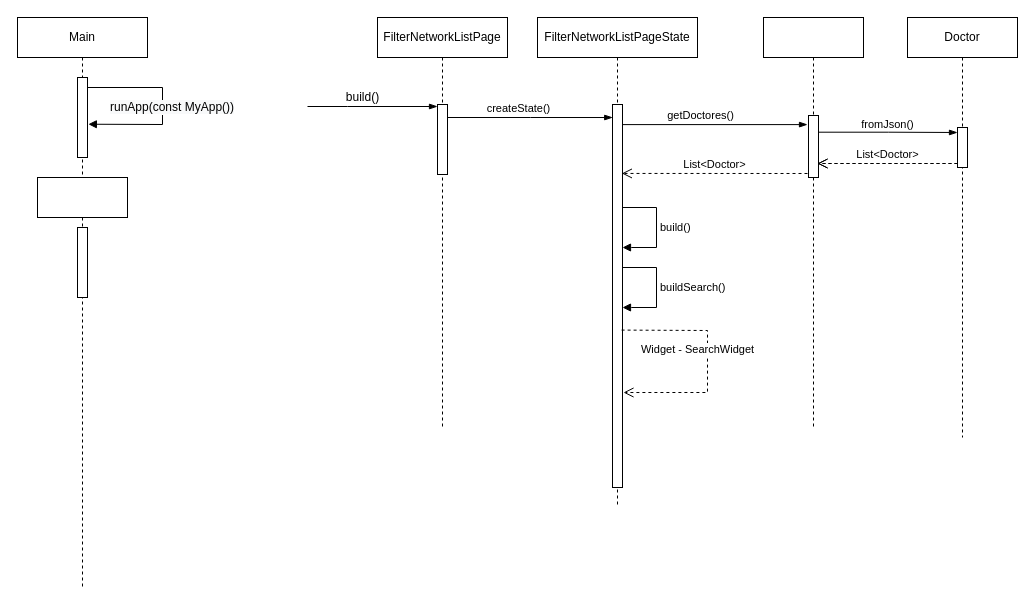
This 1035x605 diagram has some shape labels left out. The box of each missing label's shape, as (x1, y1, x2, y2) in pixels:
DoctorsApi: (762, 16, 864, 428)
MyApp: (36, 176, 128, 588)
